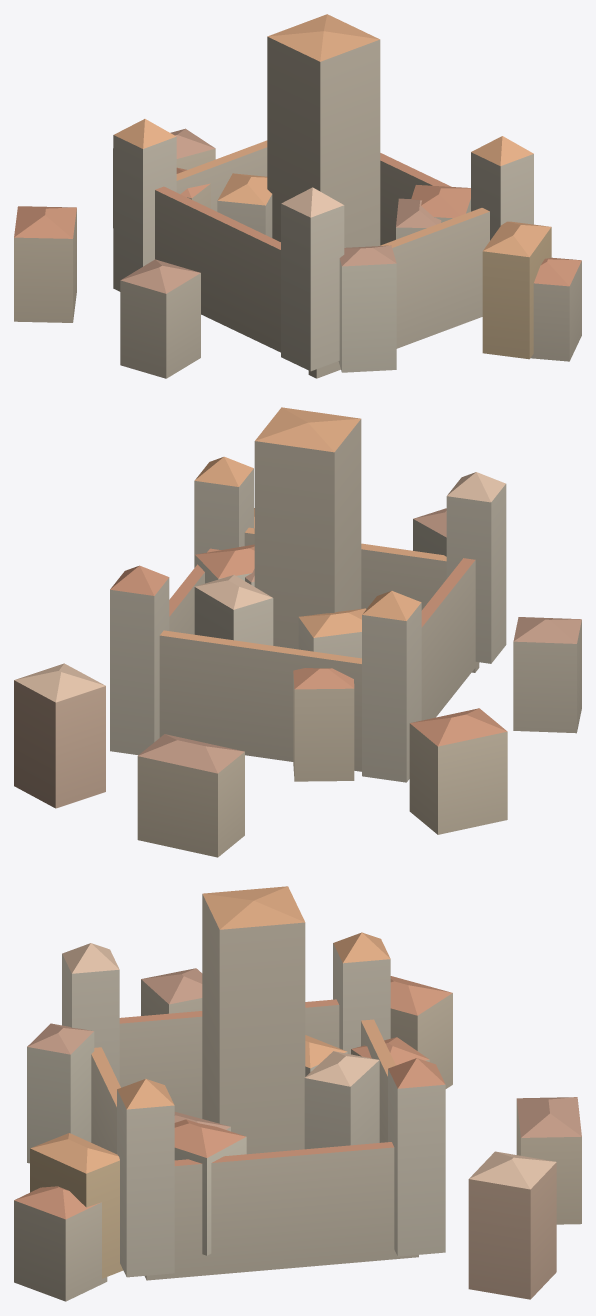
The model's file is SM_BM_BVV_Village_8.glb.
3 renders of one model, top to bottom at view 1: azimuth 30°, elevation 25°; view 2: azimuth 150°, elevation 25°; view 3: azimuth 270°, elevation 25°, orthographic. The views are drawn at different scales.
Parts seen in each view (by area): view 1: SM_BM_BVV_Village_8; view 2: SM_BM_BVV_Village_8; view 3: SM_BM_BVV_Village_8.
Boxes of the visible parts, x1=… form: SM_BM_BVV_Village_8: x1=14, y1=14, x2=581, y2=378; SM_BM_BVV_Village_8: x1=14, y1=407, x2=581, y2=857; SM_BM_BVV_Village_8: x1=14, y1=886, x2=581, y2=1301.
Size of the model in its own units: 103 by 68.07 by 110.
